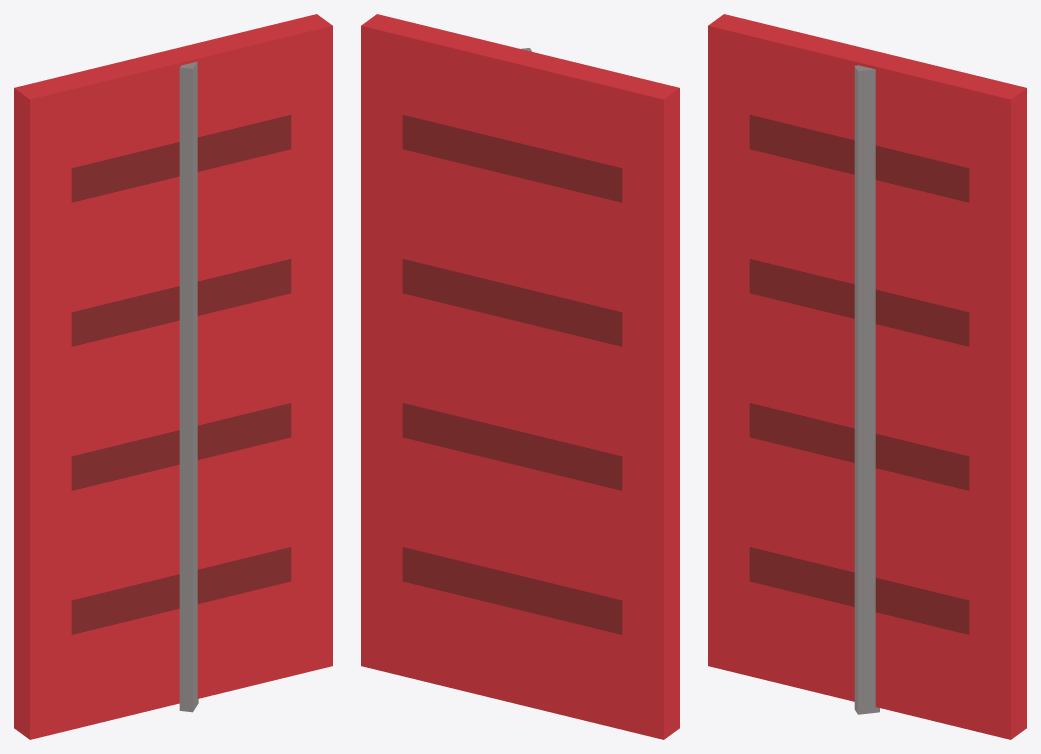
The model's file is cargo-shipping-door_R_red.glb.
3 views of the same model, side by side, from view 1: azimuth 30°, elevation 25°; view 2: azimuth 150°, elevation 25°; view 3: azimuth 330°, elevation 25° (orthographic).
Parts seen in each view (by area): view 1: cargo-shipping-door_R_red; view 2: cargo-shipping-door_R_red; view 3: cargo-shipping-door_R_red.
Boxes of the visible parts, x1,y1,x2,y2 form: cargo-shipping-door_R_red: [14, 14, 332, 739]; cargo-shipping-door_R_red: [361, 14, 679, 739]; cargo-shipping-door_R_red: [708, 14, 1026, 739].
Bounding box in the file's own units: 1.09 × 2.22 × 0.1398.
Materials: 1 (1 with a texture image).
